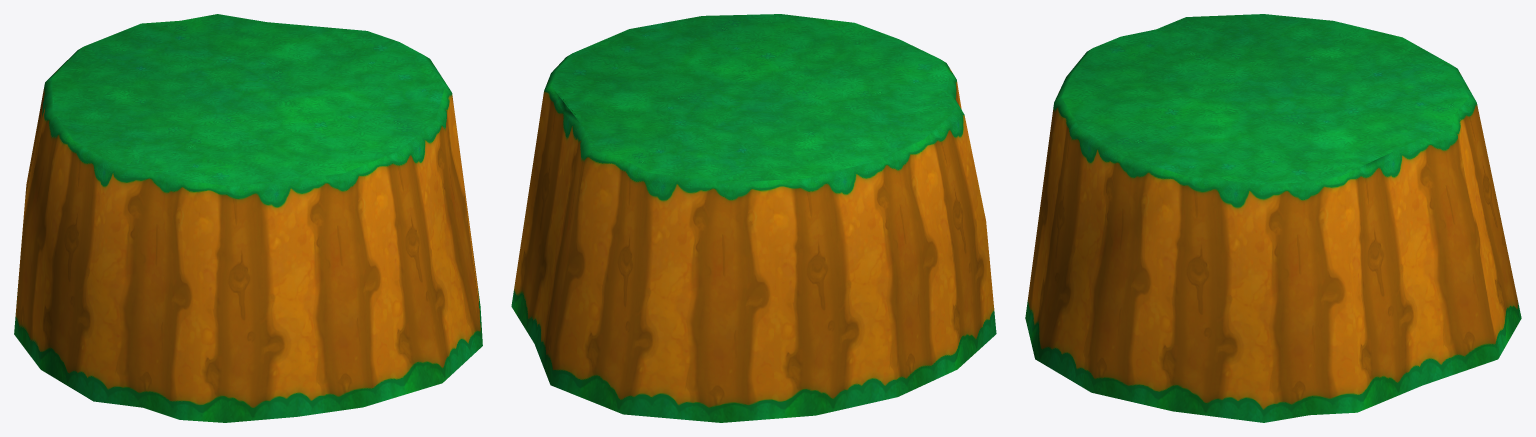
File: Hill01_b01.FBX
3 views of the same model, side by side, from view 1: azimuth 30°, elevation 25°; view 2: azimuth 150°, elevation 25°; view 3: azimuth 270°, elevation 25° (orthographic).
Parts seen in each view (by area): view 1: Hill01_b01; view 2: Hill01_b01; view 3: Hill01_b01.
Part boxes in pixels (x1=…): Hill01_b01: x1=14, y1=14, x2=482, y2=422; Hill01_b01: x1=511, y1=14, x2=996, y2=422; Hill01_b01: x1=1025, y1=14, x2=1521, y2=422.
Size of the model in its own units: 987 by 499 by 1015.
2 materials, 2 textured.
